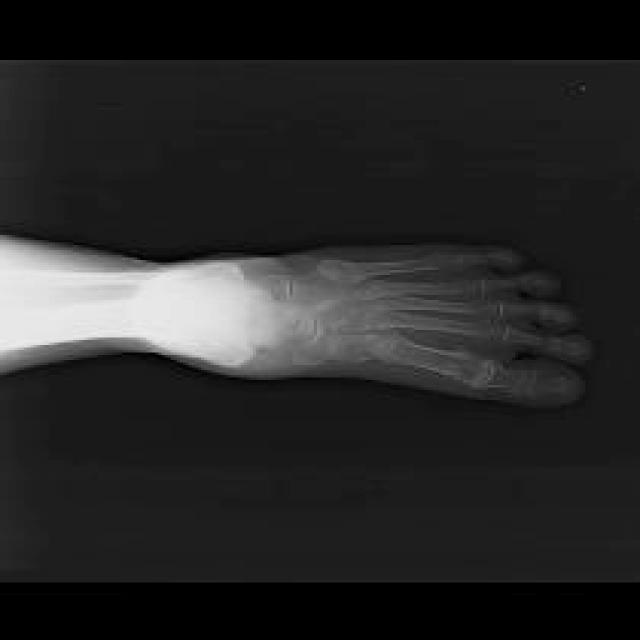normal: (0, 253, 592, 401)
